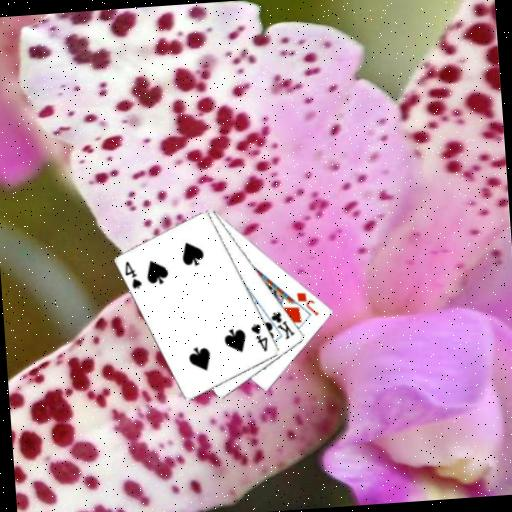4S: (248, 320, 271, 354), (122, 257, 144, 291)
JD: (294, 288, 321, 319)
KC: (263, 308, 297, 343)
